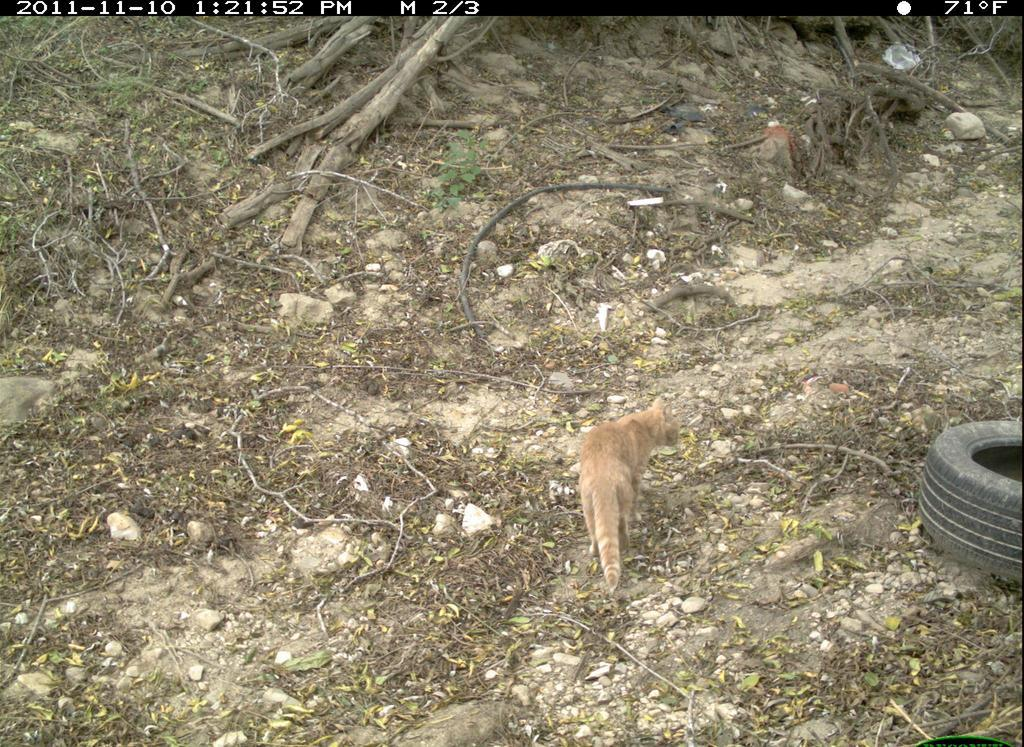cat: (561, 390, 690, 597)
